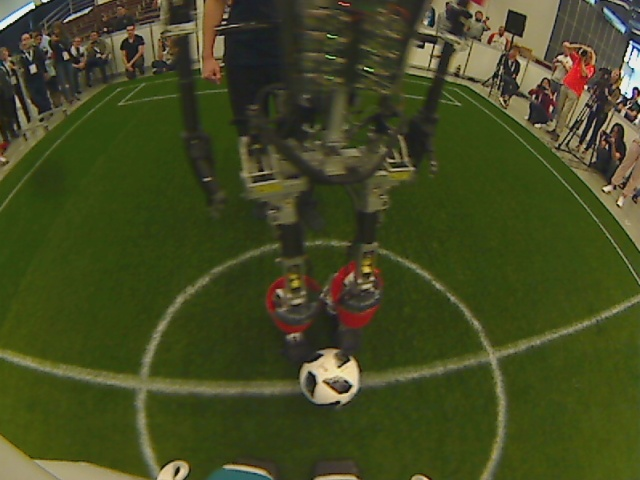ball: (296, 348, 362, 408)
